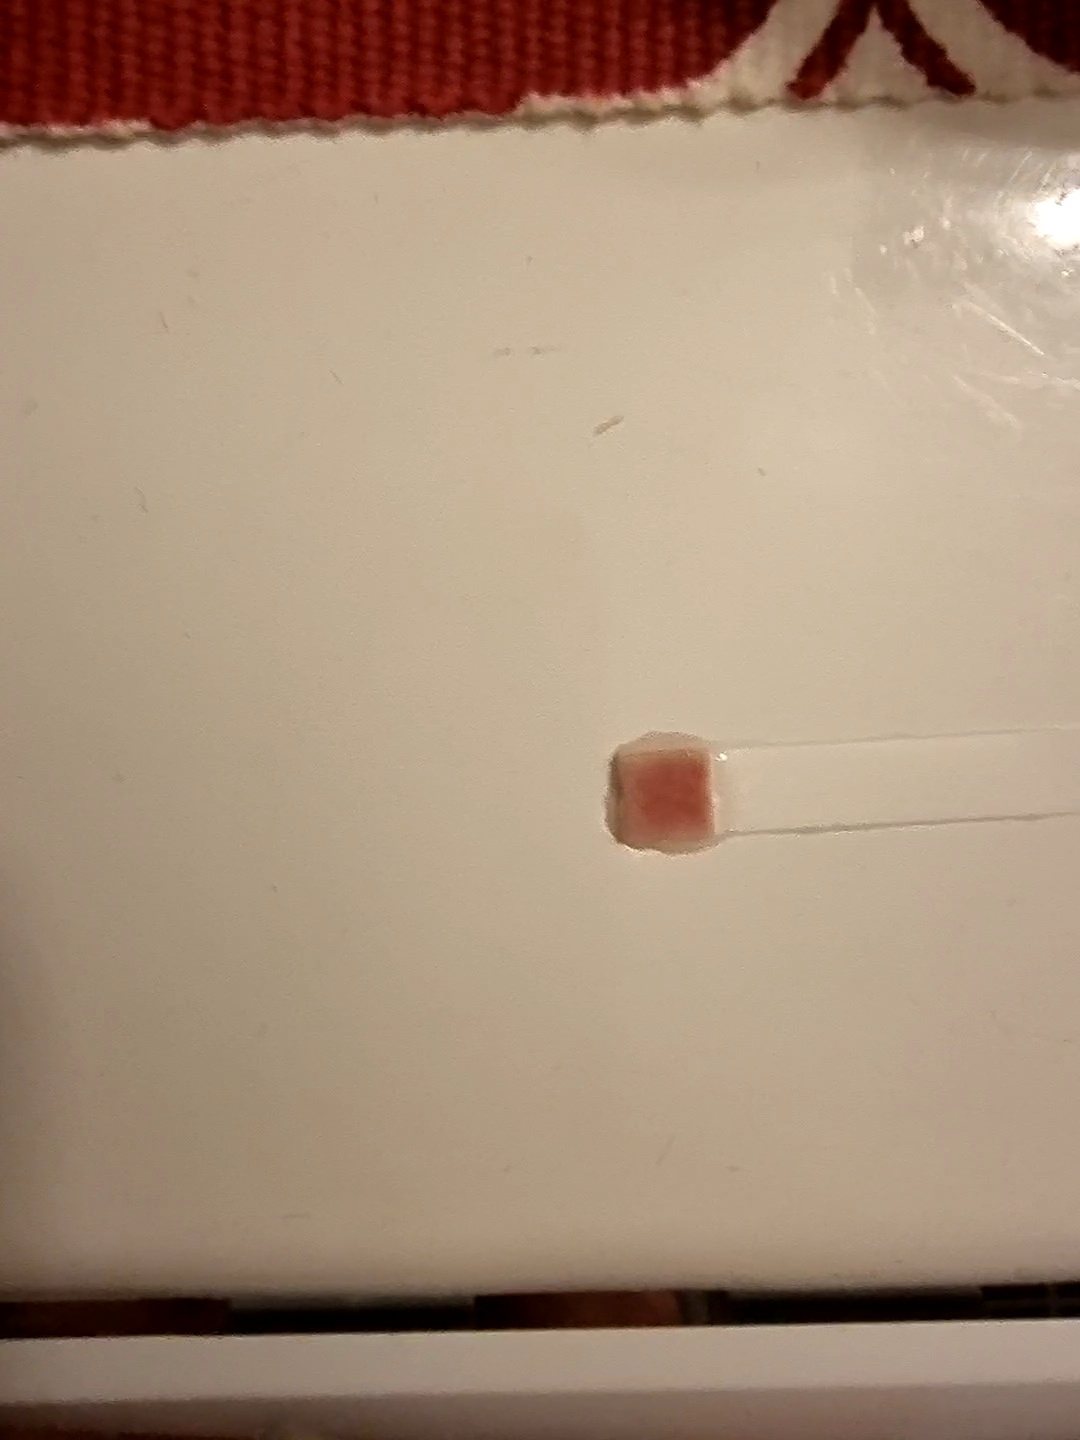keto-tip: (608, 743, 726, 863)
